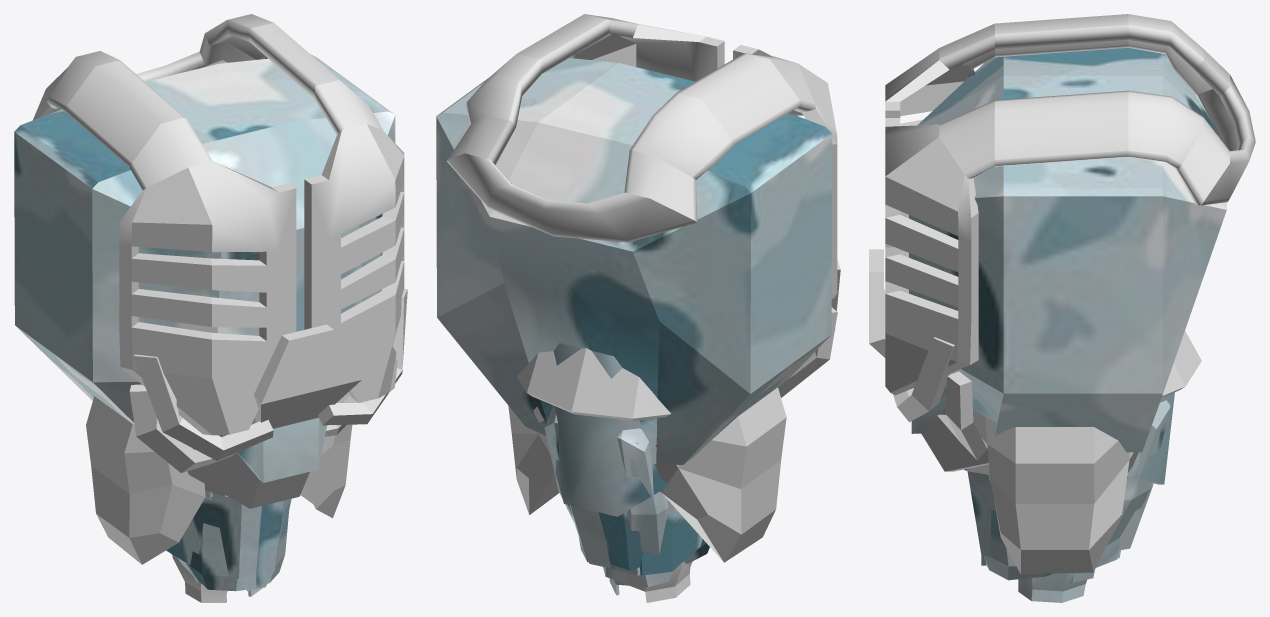
The model's file is TypeC.fbx.
3 views of the same model, side by side, from view 1: azimuth 30°, elevation 25°; view 2: azimuth 150°, elevation 25°; view 3: azimuth 270°, elevation 25° (orthographic). The views are drawn at different scales.
Parts seen in each view (by area): view 1: TypeC.Torso, TypeC.Arm.R, TypeC.Hip, TypeC.Leg.L, TypeC.Leg.R, TypeC.Arm.L; view 2: TypeC.Torso, TypeC.Arm.R, TypeC.Hip, TypeC.Head, TypeC.Shin.R, TypeC.Arm.L, TypeC.Shin.L, TypeC.Leg.L; view 3: TypeC.Torso, TypeC.Arm.L, TypeC.Hip, TypeC.Shin.L, TypeC.Leg.R, TypeC.Leg.L, TypeC.Head, TypeC.Shin.R.
Part boxes in pixels (x1=…): TypeC.Torso: x1=14, y1=14, x2=407, y2=473; TypeC.Arm.R: x1=86, y1=396, x2=228, y2=602; TypeC.Hip: x1=188, y1=417, x2=326, y2=508; TypeC.Leg.L: x1=166, y1=490, x2=289, y2=591; TypeC.Leg.R: x1=171, y1=484, x2=291, y2=591; TypeC.Arm.L: x1=187, y1=392, x2=352, y2=596; TypeC.Torso: x1=436, y1=14, x2=840, y2=464; TypeC.Arm.R: x1=603, y1=387, x2=786, y2=602; TypeC.Hip: x1=552, y1=343, x2=667, y2=516; TypeC.Head: x1=517, y1=348, x2=670, y2=420; TypeC.Shin.R: x1=548, y1=420, x2=667, y2=563; TypeC.Arm.L: x1=508, y1=406, x2=692, y2=595; TypeC.Shin.L: x1=544, y1=407, x2=644, y2=570; TypeC.Leg.L: x1=589, y1=499, x2=702, y2=575; TypeC.Torso: x1=869, y1=14, x2=1255, y2=460; TypeC.Arm.L: x1=973, y1=410, x2=1138, y2=602; TypeC.Hip: x1=911, y1=386, x2=1174, y2=484; TypeC.Shin.L: x1=1107, y1=400, x2=1170, y2=545; TypeC.Leg.R: x1=967, y1=471, x2=1120, y2=567; TypeC.Leg.L: x1=964, y1=464, x2=1120, y2=580; TypeC.Head: x1=908, y1=289, x2=1201, y2=397; TypeC.Shin.R: x1=1119, y1=403, x2=1169, y2=550.
Bounding box in the file's own units: 0.6075 × 0.9939 × 0.6571.
